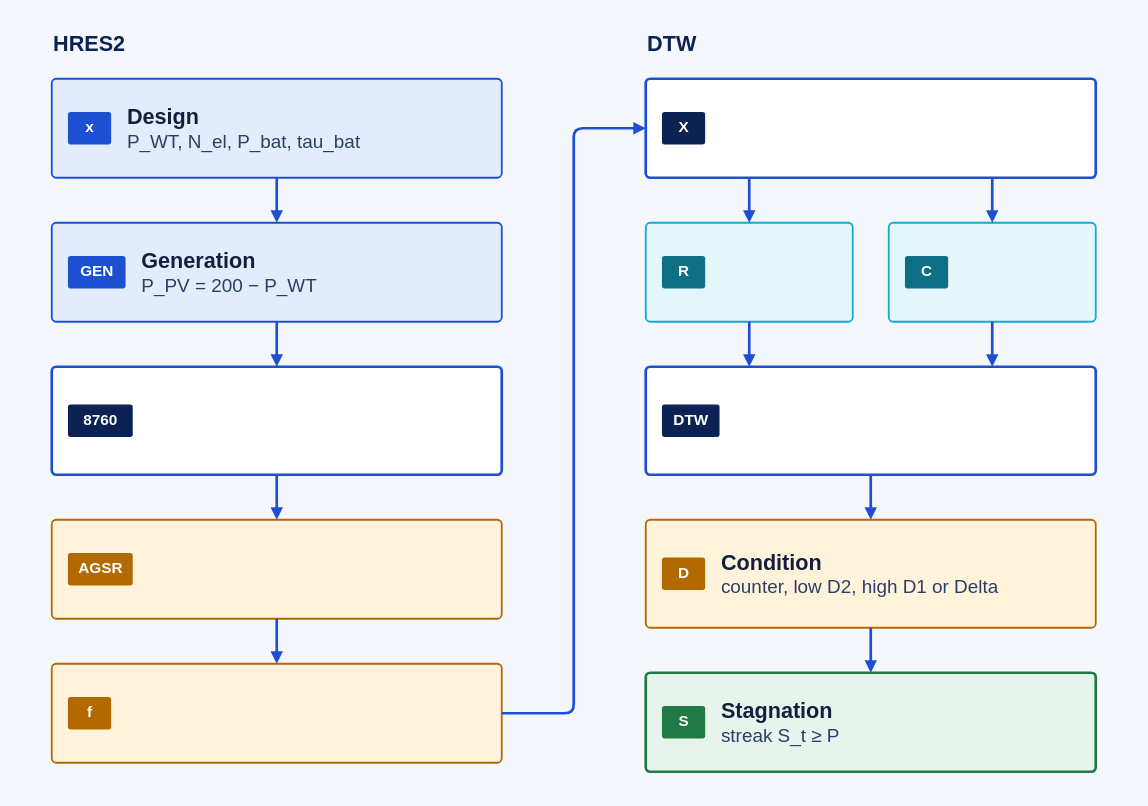
The diagram is 1148 pixels wide and 806 high, and some of its shapes have lost their labels. The box of each missing label's shape, as (x1, y1, x2, y2) in pixels:
Constraint AGSR ≤ 0.20: (50, 518, 502, 619)
DTW / DDTW D1(X, R), D2(X, C), Delta: (644, 365, 1097, 476)
Handoff to DTW q = −f, window X: (644, 77, 1097, 179)
Hourly simulation 8760 h, PEM and BESS dispatch: (50, 365, 503, 476)
LCOE feasible f, or penalty: (50, 662, 502, 763)
Plateau C constant: (887, 221, 1096, 322)
Ramp R progress: (644, 221, 853, 322)
